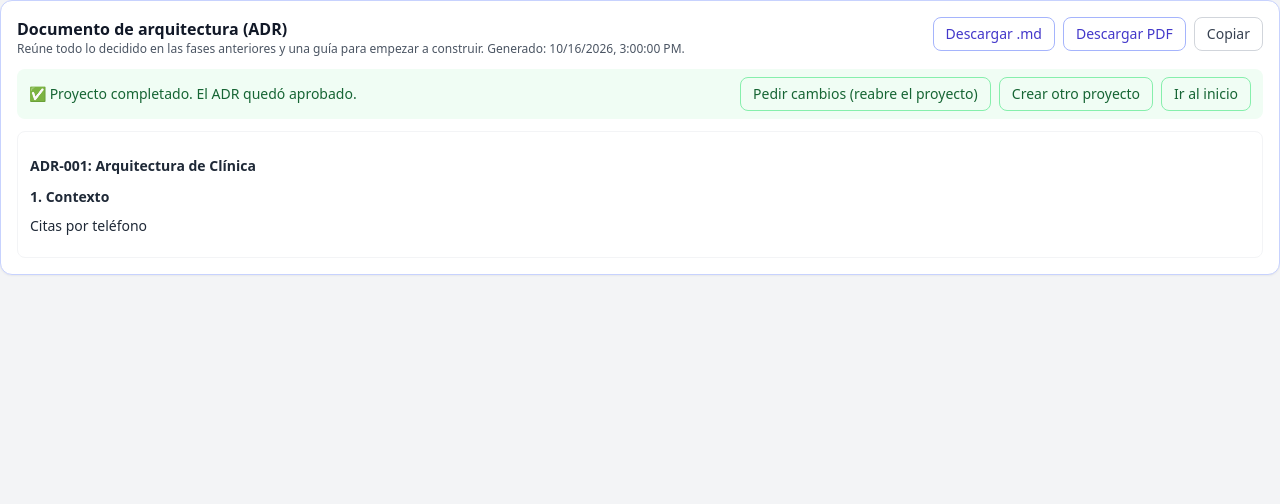
Test: AdrPanel › un ADR aprobado se puede reabrir pidiendo cambios
Click the button with test id "adr-reopen".
click(865, 94)  # box [740,77,991,111]
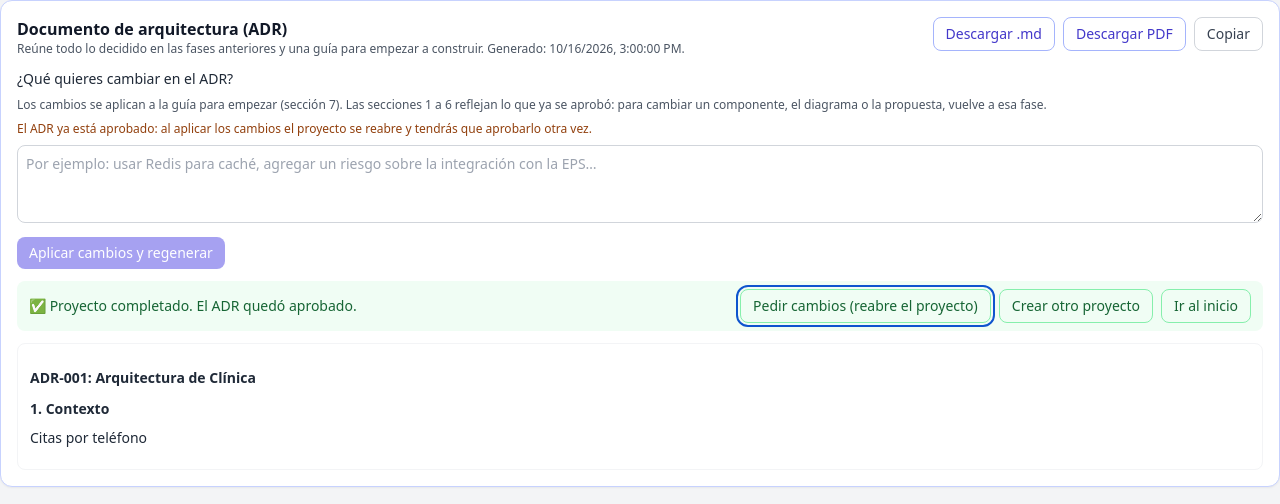
expect the text with test id "adr-reopen-note" is shown: met, box [17,120,592,137]
Type "Agregar auditoría" into the text box labelled "¿Qué quieres cambiar en el ADR?".
click(640, 184); type("Agregar auditoría")  # box [17,145,1263,223]
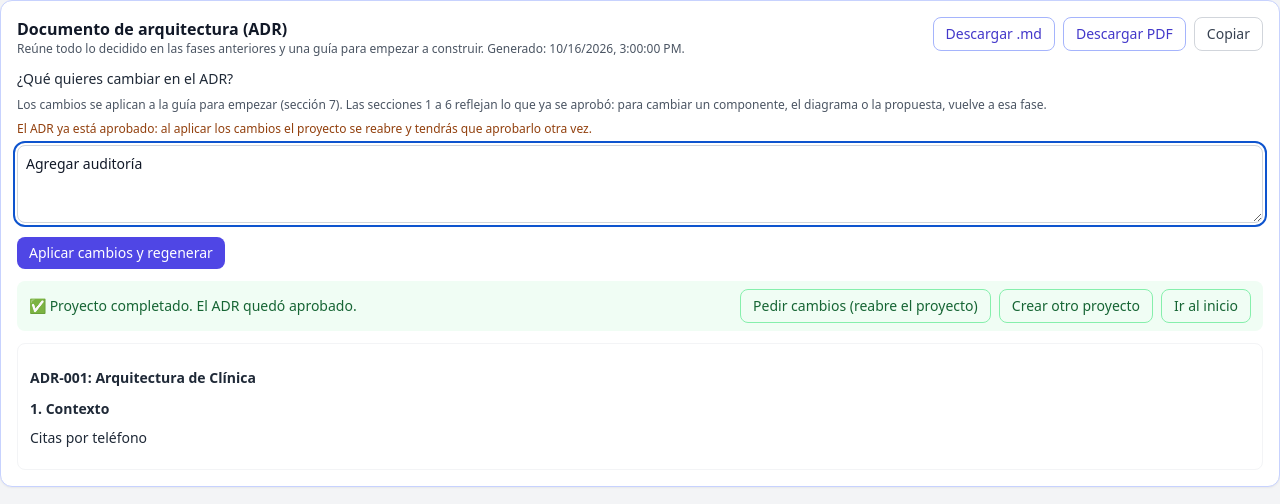
Click the button with test id "adr-send-changes".
click(121, 253)  # box [17,237,225,269]
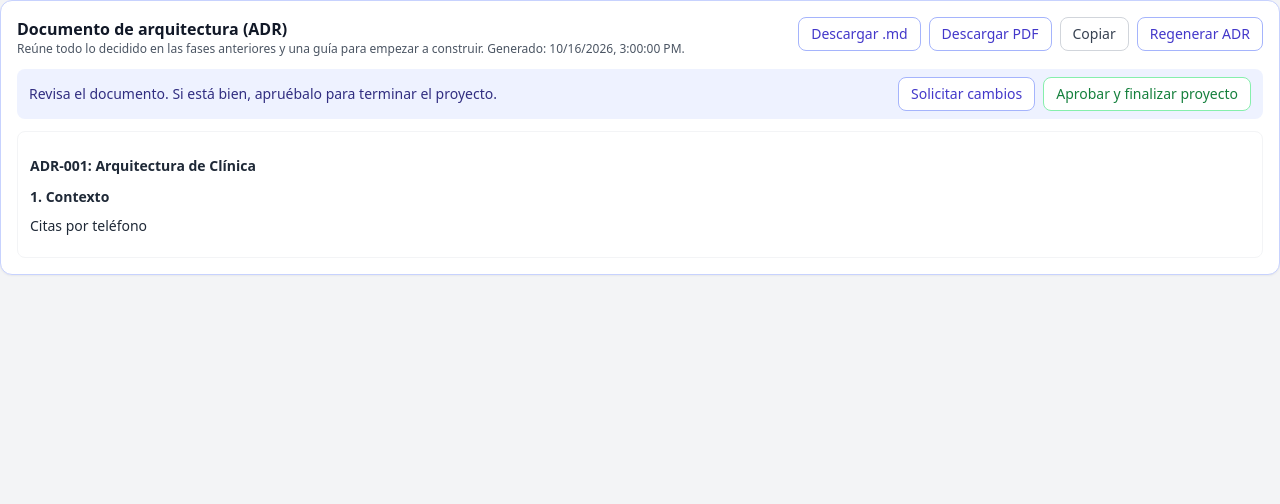
expect the button with test id "adr-approve" is shown: met, box [1043,77,1251,111]
expect the message with test id "adr-completed" is gone: met
